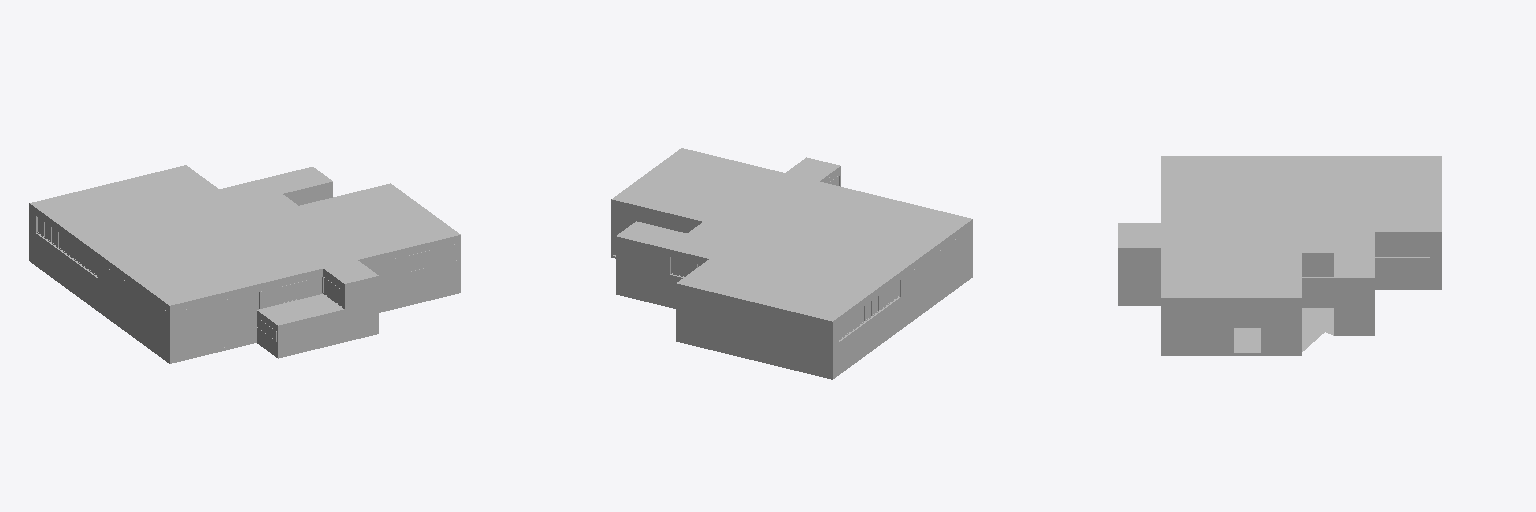
The model's file is LABORATORIO FINAL.obj.
The picture shows the model from 3 angles: view 1: azimuth 30°, elevation 25°; view 2: azimuth 150°, elevation 25°; view 3: azimuth 270°, elevation 25°; orthographic projection.
Visible parts, largest first — view 1: Mesh863 Group855 Group854 Model, Mesh866 Group858 Group854 Model, Mesh867 Group859 Group854 Model, Mesh871 Group863 Group854 Model, Mesh864 Group856 Group854 Model, Mesh771 Group763 Model, Mesh865 Group857 Group854 Model, Mesh773 Group766 Group765 Model, Mesh869 Group861 Group854 Model, Mesh775 Group768 Group765 Model, Mesh868 Group860 Group854 Model, Mesh711 Group702 Group699 Model (+15 smaller); view 2: Mesh863 Group855 Group854 Model, Mesh866 Group858 Group854 Model, Mesh867 Group859 Group854 Model, Mesh871 Group863 Group854 Model, Mesh864 Group856 Group854 Model, Mesh865 Group857 Group854 Model, Mesh869 Group861 Group854 Model, Mesh716 Group708 Group706 Model, Mesh868 Group860 Group854 Model, Mesh711 Group702 Group699 Model, Mesh715 Group707 Group706 Model, Mesh853 Group842 Group840 Model (+18 smaller); view 3: Mesh863 Group855 Group854 Model, Mesh866 Group858 Group854 Model, Mesh867 Group859 Group854 Model, Mesh871 Group863 Group854 Model, Mesh864 Group856 Group854 Model, Mesh246 Group266 Model, Mesh865 Group857 Group854 Model, Mesh869 Group861 Group854 Model, Mesh868 Group860 Group854 Model, Mesh2 Group2 Model, Mesh749 Group740 Model, Mesh870 Group862 Group854 Model (+14 smaller).
Boxes of the visible parts, box(x1,y1,x2,y2) form: Mesh863 Group855 Group854 Model: box(105, 235, 253, 303); Mesh866 Group858 Group854 Model: box(258, 202, 388, 265); Mesh867 Group859 Group854 Model: box(191, 218, 320, 282); Mesh871 Group863 Group854 Model: box(328, 185, 454, 249); Mesh864 Group856 Group854 Model: box(68, 208, 184, 253); Mesh771 Group763 Model: box(280, 301, 378, 354); Mesh865 Group857 Group854 Model: box(35, 184, 148, 226); Mesh773 Group766 Group765 Model: box(173, 310, 256, 359); Mesh869 Group861 Group854 Model: box(155, 192, 251, 231); Mesh775 Group768 Group765 Model: box(395, 260, 460, 305); Mesh868 Group860 Group854 Model: box(122, 167, 214, 205); Mesh711 Group702 Group699 Model: box(36, 233, 97, 307); Mesh863 Group855 Group854 Model: box(819, 199, 967, 267); Mesh866 Group858 Group854 Model: box(683, 166, 813, 230); Mesh867 Group859 Group854 Model: box(751, 183, 881, 246); Mesh871 Group863 Group854 Model: box(617, 150, 745, 213); Mesh864 Group856 Group854 Model: box(782, 249, 898, 294); Mesh865 Group857 Group854 Model: box(749, 276, 862, 318); Mesh869 Group861 Group854 Model: box(714, 233, 812, 273); Mesh716 Group708 Group706 Model: box(678, 309, 743, 354); Mesh868 Group860 Group854 Model: box(682, 260, 776, 297); Mesh711 Group702 Group699 Model: box(839, 297, 900, 371); Mesh715 Group707 Group706 Model: box(746, 326, 809, 370); Mesh853 Group842 Group840 Model: box(619, 262, 666, 303); Mesh863 Group855 Group854 Model: box(1165, 157, 1297, 197); Mesh866 Group858 Group854 Model: box(1165, 232, 1297, 263); Mesh867 Group859 Group854 Model: box(1165, 199, 1297, 230); Mesh871 Group863 Group854 Model: box(1165, 266, 1297, 295); Mesh864 Group856 Group854 Model: box(1302, 157, 1371, 197); Mesh246 Group266 Model: box(1118, 287, 1441, 355); Mesh865 Group857 Group854 Model: box(1375, 157, 1437, 197); Mesh869 Group861 Group854 Model: box(1302, 199, 1371, 230); Mesh868 Group860 Group854 Model: box(1375, 199, 1437, 230); Mesh2 Group2 Model: box(1171, 323, 1233, 352); Mesh749 Group740 Model: box(1375, 257, 1429, 286); Mesh870 Group862 Group854 Model: box(1302, 232, 1371, 251).
Bounding box in the file's own units: 1092 × 209 × 1050.